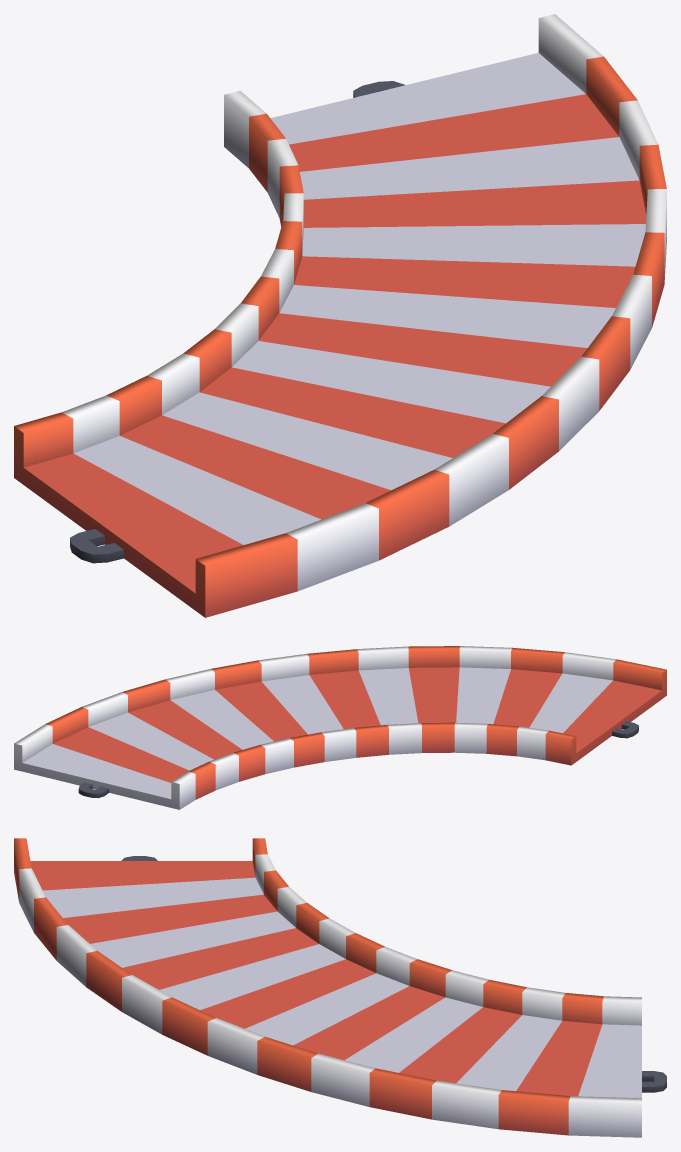
Rendered from kenney-toy-car-track-striped-wide-corner-large.glb.
3 renders of one model, top to bottom at view 1: azimuth 30°, elevation 25°; view 2: azimuth 150°, elevation 25°; view 3: azimuth 270°, elevation 25°, orthographic. The views are drawn at different scales.
Parts seen in each view (by area): view 1: track-striped-wide-corner-large; view 2: track-striped-wide-corner-large; view 3: track-striped-wide-corner-large.
Part boxes in pixels (x1,y1,x2,y2): track-striped-wide-corner-large: [14, 14, 666, 617]; track-striped-wide-corner-large: [14, 646, 666, 809]; track-striped-wide-corner-large: [14, 838, 666, 1137].
Bounding box in the file's own units: 5.2 × 0.3003 × 5.2.
1 material, 1 textured.
